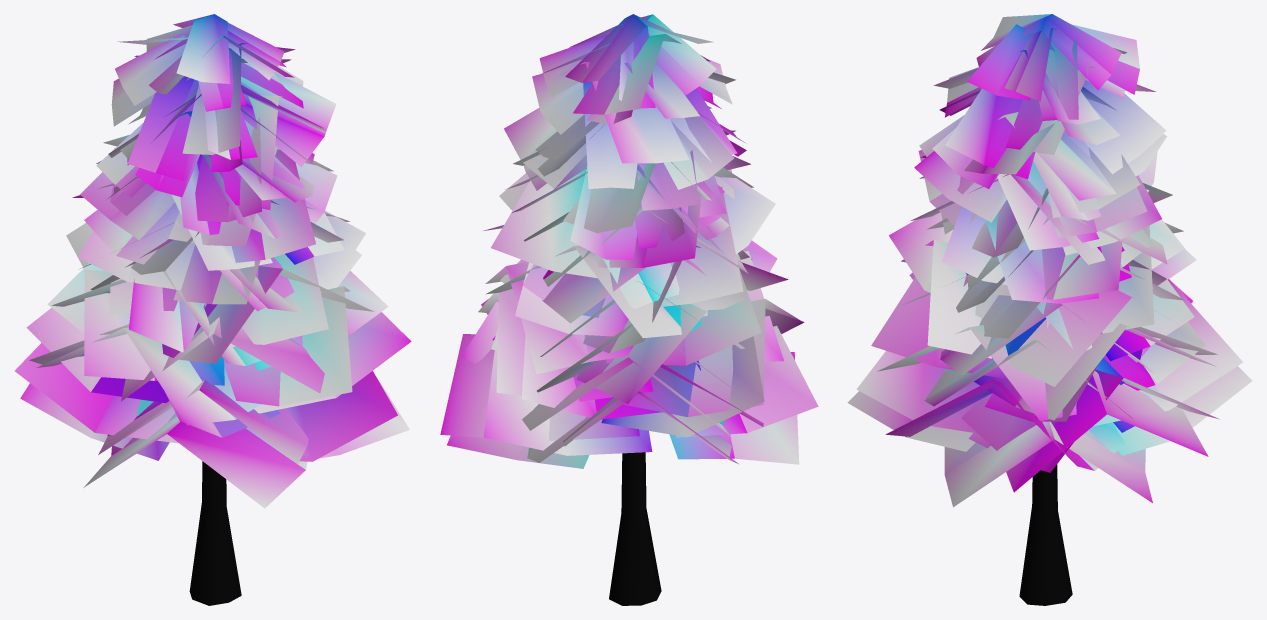
File: fir_tree_01_tall.dae
The picture shows the model from 3 angles, left to right: view 1: azimuth 30°, elevation 25°; view 2: azimuth 150°, elevation 25°; view 3: azimuth 270°, elevation 25°; orthographic projection.
Visible parts, largest first — view 1: tanne128; view 2: tanne128; view 3: tanne128.
Boxes of the visible parts, box(x1,y1,x2,y2) form: tanne128: box(15, 14, 411, 605); tanne128: box(440, 14, 818, 605); tanne128: box(847, 14, 1252, 605).
Size of what is drawn, in the model's own units: 11.02 by 12.1 by 19.06.
